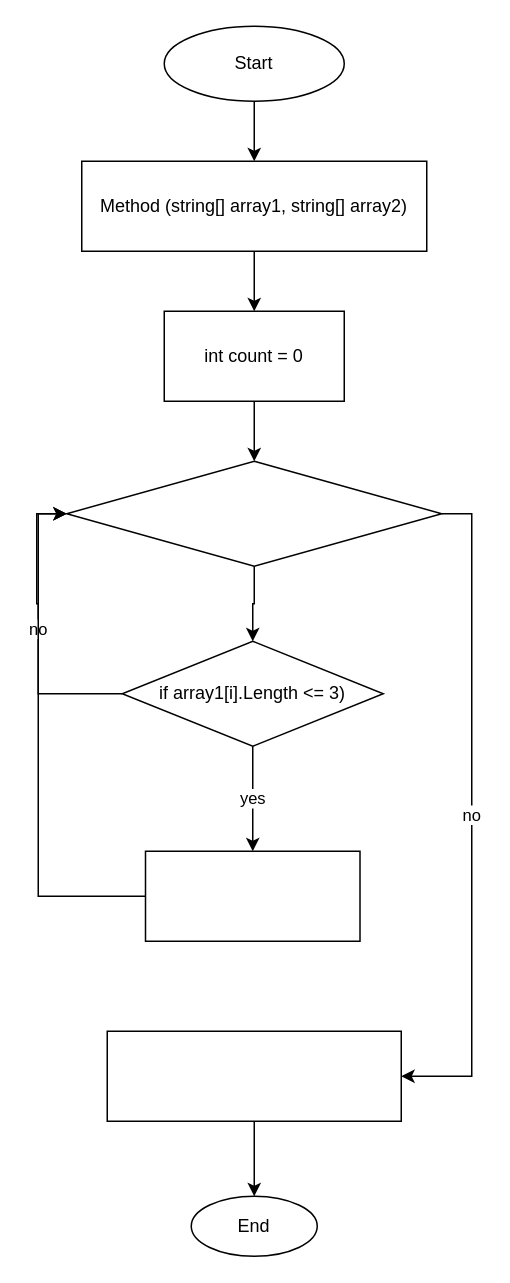
Image size: 510x1283. Some labels were removed from this diagram. Here are the shapes that lost their labels. From the top down, the box of each, then its label:
(65, 460, 442, 566): for (int i = 0; i < array1.Length; i++)
(144, 850, 360, 941): array2[count] = array1[i] count = count + 1
(106, 1030, 401, 1121): Method(arrayOrigin, arrayNew)
